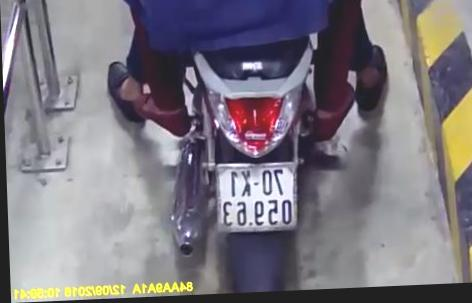License_Plate: (203, 156, 307, 238)
